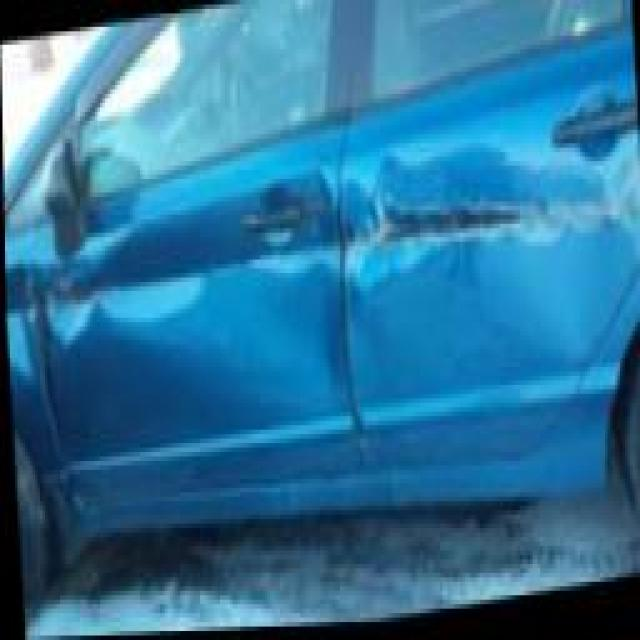replaceable: (21, 180, 333, 326), (346, 175, 640, 276)
